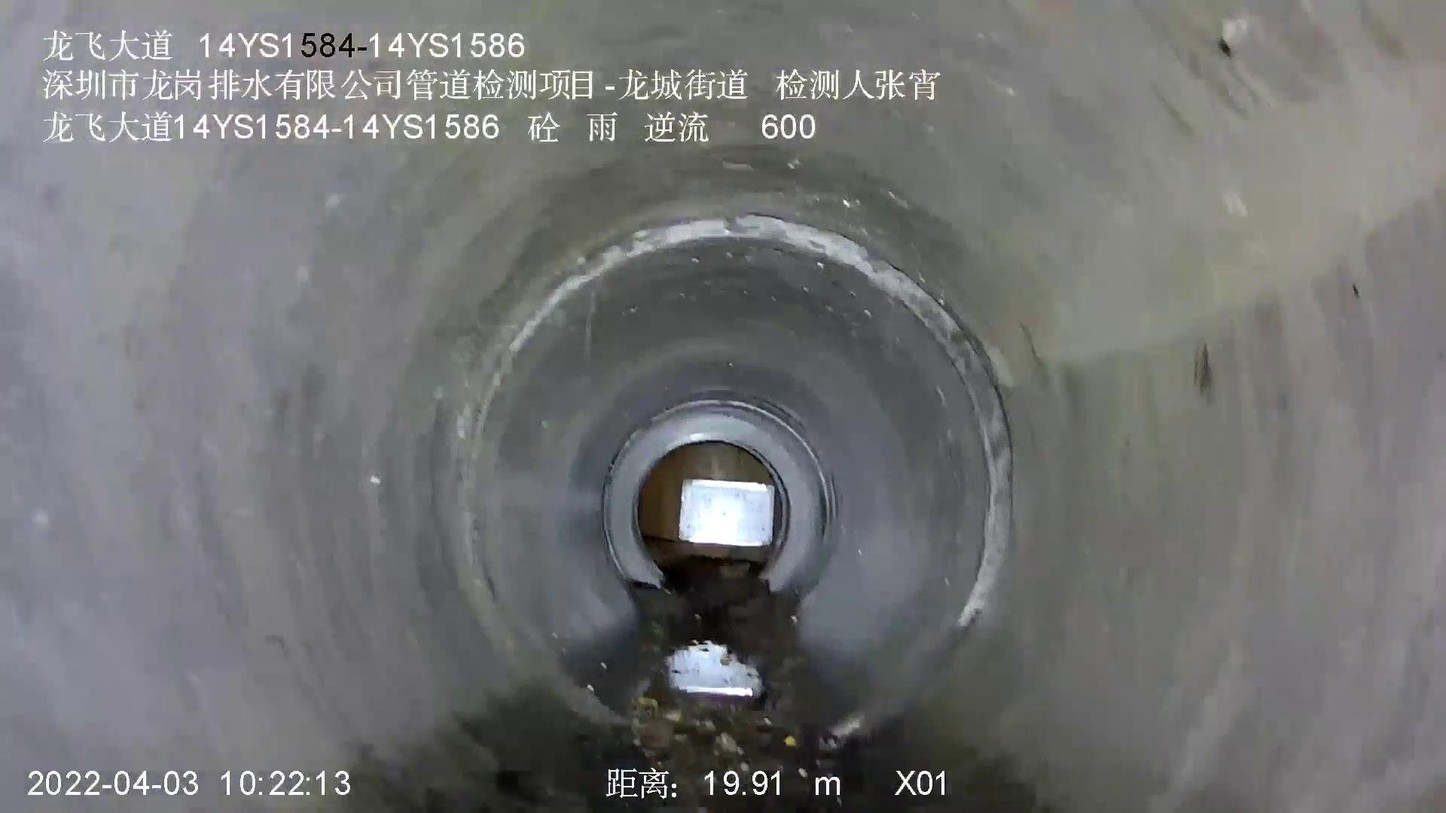CJ: (398, 570, 1033, 812)
CKTJ: (471, 215, 1012, 629), (599, 394, 835, 585)
